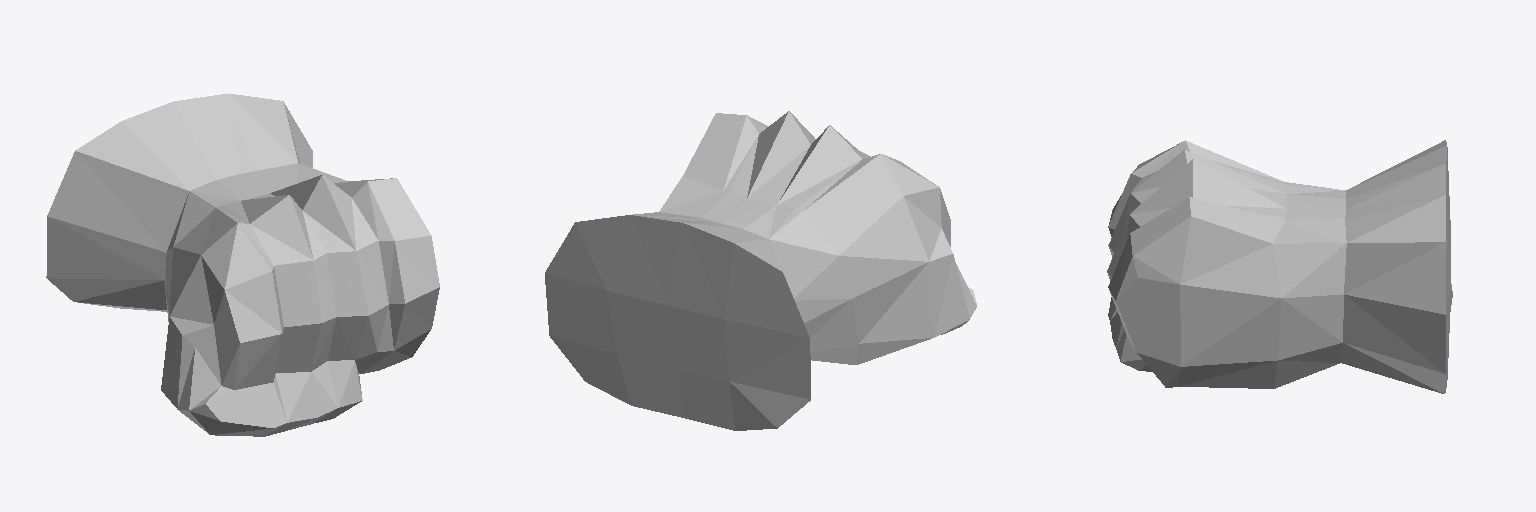
The model's file is fist.obj.
The picture shows the model from 3 angles: view 1: azimuth 30°, elevation 25°; view 2: azimuth 150°, elevation 25°; view 3: azimuth 270°, elevation 25°; orthographic projection.
Visible parts, largest first — view 1: polySurface1_0; view 2: polySurface1_0; view 3: polySurface1_0.
Part boxes in pixels (x1,y1,x2,y2): polySurface1_0: (46,93,439,436); polySurface1_0: (545,111,976,430); polySurface1_0: (1107,140,1452,393).
Size of the model in its own units: 4.93 by 3.62 by 5.27.